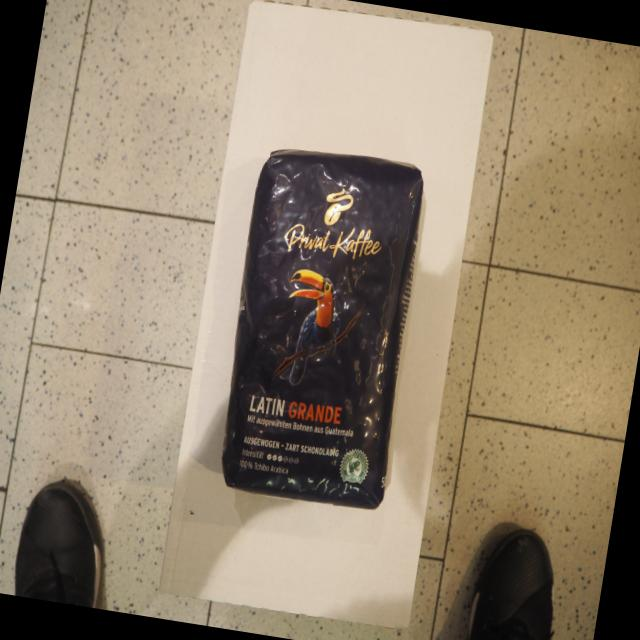LG Bohne: (205, 135, 438, 514)
